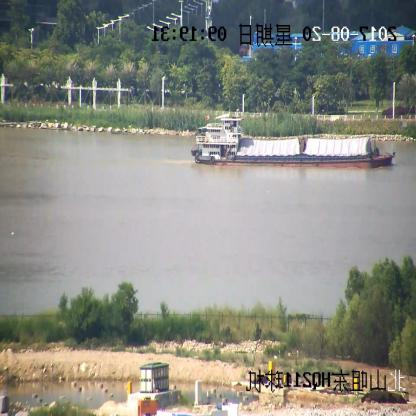Bulk Carrier: (192, 113, 393, 167)
